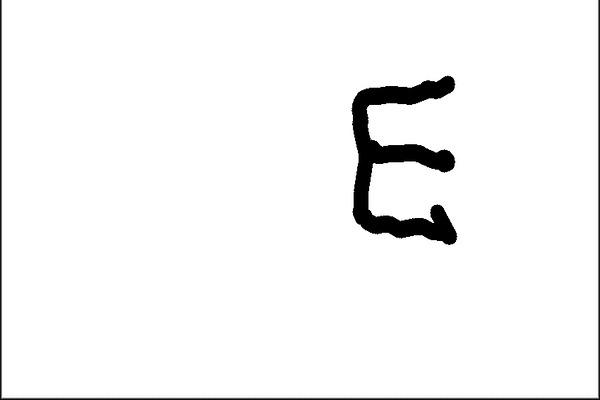E: (342, 69, 474, 253)
